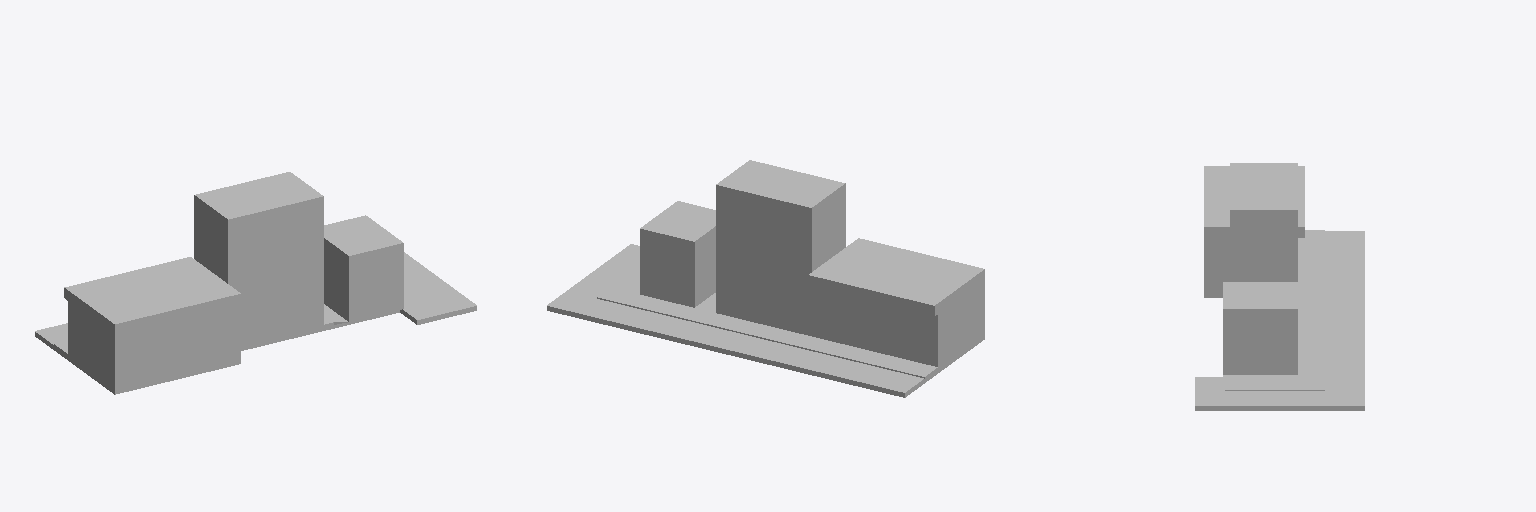
Rendered from DemoBlock.obj.
3 views of the same model, side by side, from view 1: azimuth 30°, elevation 25°; view 2: azimuth 150°, elevation 25°; view 3: azimuth 270°, elevation 25° (orthographic).
Visible parts, largest first — view 1: DemoBlock; view 2: DemoBlock; view 3: DemoBlock.
Boxes of the visible parts, x1,y1,x2,y2 form: DemoBlock: [35, 172, 476, 394]; DemoBlock: [547, 160, 984, 397]; DemoBlock: [1195, 163, 1364, 410].
Size of the model in its own units: 61.27 by 22.01 by 25.06.